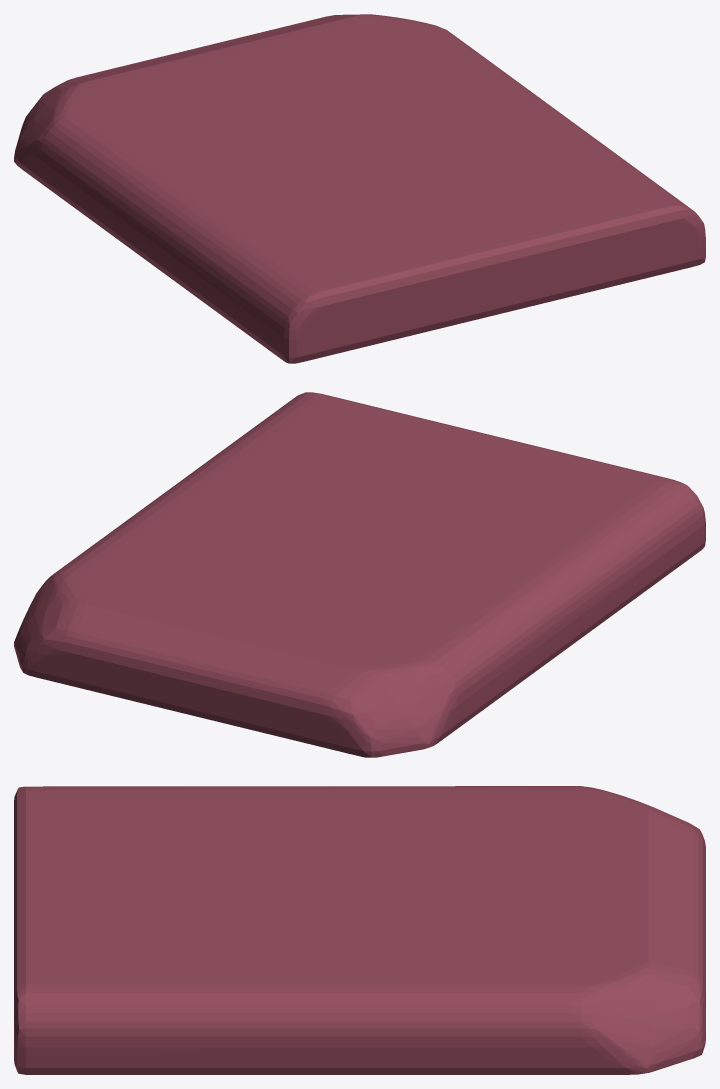
The model's file is torso_link_part_13.obj.
The picture shows the model from 3 angles, top to bottom: view 1: azimuth 30°, elevation 25°; view 2: azimuth 150°, elevation 25°; view 3: azimuth 270°, elevation 25°; orthographic projection. The views are drawn at different scales.
Bounding box in the file's own units: 0.1494 × 0.0224 × 0.1868.
